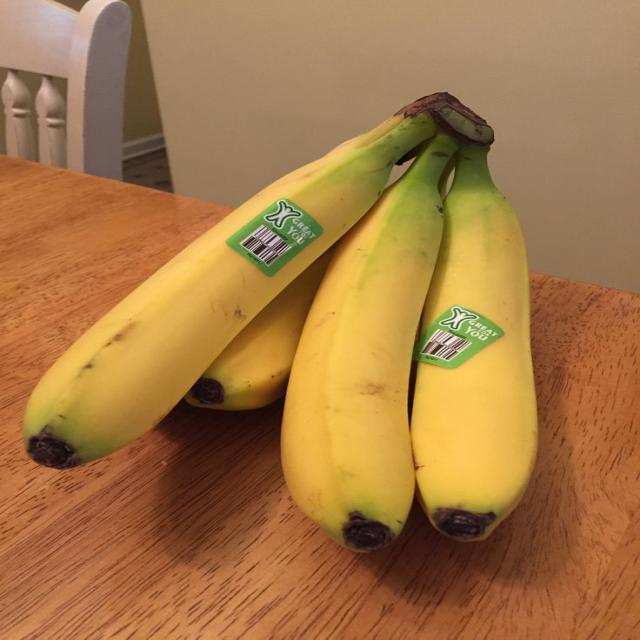unpeal banana: (24, 96, 446, 468), (281, 134, 458, 551), (412, 147, 537, 540), (185, 248, 332, 410)
